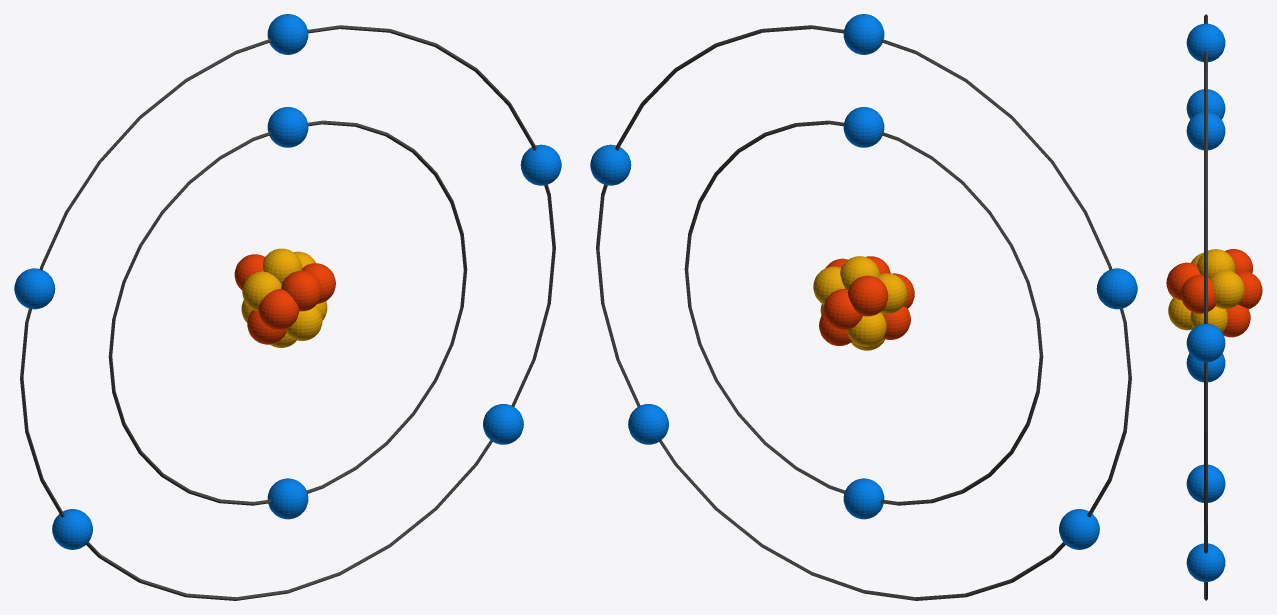
3 renders of one model, left to right at view 1: azimuth 30°, elevation 25°; view 2: azimuth 150°, elevation 25°; view 3: azimuth 270°, elevation 25°, orthographic. The views are drawn at different scales.
Parts seen in each view (by area): view 1: Orbit2, Orbit1, Electron.004, Electron.002, Electron, Electron.006, Electron.001, Electron.005, Electron.003, Proton.005, Proton.003, Neutron.005 (+3 smaller); view 2: Orbit2, Orbit1, Electron.004, Electron.002, Electron, Electron.006, Electron.001, Electron.005, Electron.003, Proton.006, Proton.001, Neutron.003 (+3 smaller); view 3: Orbit2, Electron.005, Electron.002, Electron.006, Electron, Electron.001, Neutron.001, Proton.004, Electron.004, Electron.003, Neutron.006, Proton (+5 smaller).
Part boxes in pixels (<box>): Orbit2: <box>20,25,555,600</box>; Orbit1: <box>108,120,467,505</box>; Electron.004: <box>14,268,55,309</box>; Electron.002: <box>267,14,308,54</box>; Electron: <box>267,107,308,147</box>; Electron.006: <box>483,404,523,444</box>; Electron.001: <box>267,478,308,519</box>; Electron.005: <box>520,144,561,185</box>; Electron.003: <box>52,509,92,549</box>; Proton.005: <box>258,289,299,329</box>; Proton.003: <box>281,270,321,311</box>; Neutron.005: <box>242,271,281,310</box>; Orbit2: <box>596,25,1131,600</box>; Orbit1: <box>684,120,1043,505</box>; Electron.004: <box>1096,268,1137,309</box>; Electron.002: <box>843,14,884,54</box>; Electron: <box>843,107,884,147</box>; Electron.006: <box>628,404,668,444</box>; Electron.001: <box>843,478,884,519</box>; Electron.005: <box>590,144,631,185</box>; Electron.003: <box>1059,509,1099,549</box>; Proton.006: <box>847,275,888,316</box>; Proton.001: <box>823,289,862,329</box>; Neutron.003: <box>847,312,886,346</box>; Orbit2: <box>1204,14,1207,600</box>; Electron.005: <box>1186,323,1225,362</box>; Electron.002: <box>1186,23,1225,62</box>; Electron.006: <box>1186,543,1225,581</box>; Electron: <box>1186,112,1225,150</box>; Electron.001: <box>1186,464,1225,502</box>; Neutron.001: <box>1210,270,1244,308</box>; Proton.004: <box>1181,275,1215,313</box>; Electron.004: <box>1186,89,1225,119</box>; Electron.003: <box>1186,353,1225,382</box>; Neutron.006: <box>1196,249,1235,277</box>; Proton: <box>1222,304,1250,337</box>.
Bounding box in the file's own units: 305 × 311 × 49.44.
